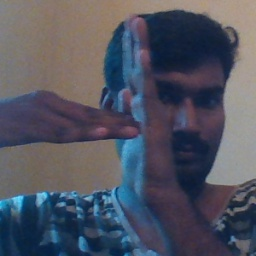Z: (46, 10, 185, 198)
